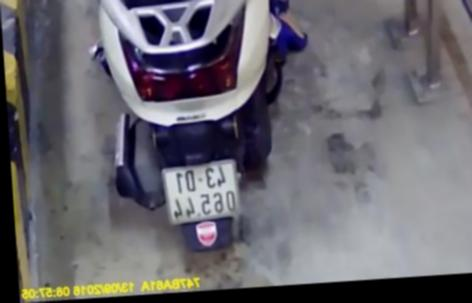License_Plate: (158, 155, 248, 229)
